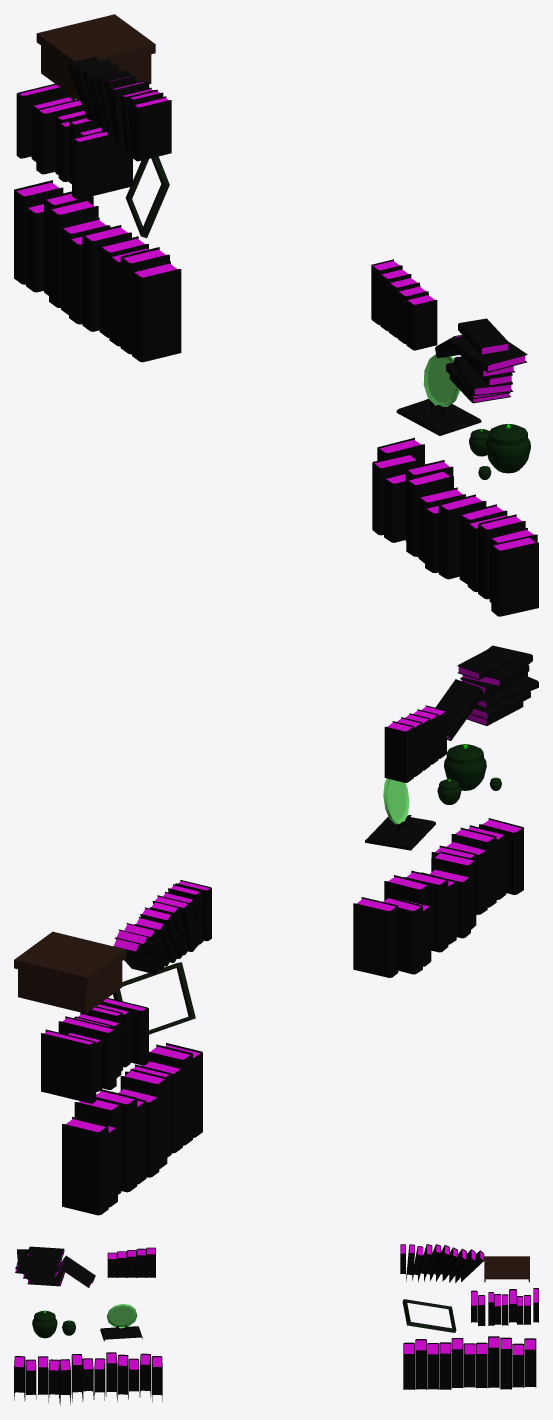
The model's file is SM_CabinetStuff_001.fbx.
3 views of the same model, one above another, from view 1: azimuth 30°, elevation 25°; view 2: azimuth 150°, elevation 25°; view 3: azimuth 270°, elevation 25° (orthographic). The views are drawn at different scales.
Visible parts, largest first — view 1: CabinetStuff_001; view 2: CabinetStuff_001; view 3: CabinetStuff_001.
Boxes of the visible parts, x1,y1,x2,y2 form: CabinetStuff_001: (14,14,538,616); CabinetStuff_001: (14,645,538,1215); CabinetStuff_001: (14,1244,538,1405).
Bounding box in the file's own units: 39.74 × 99.96 × 328.
